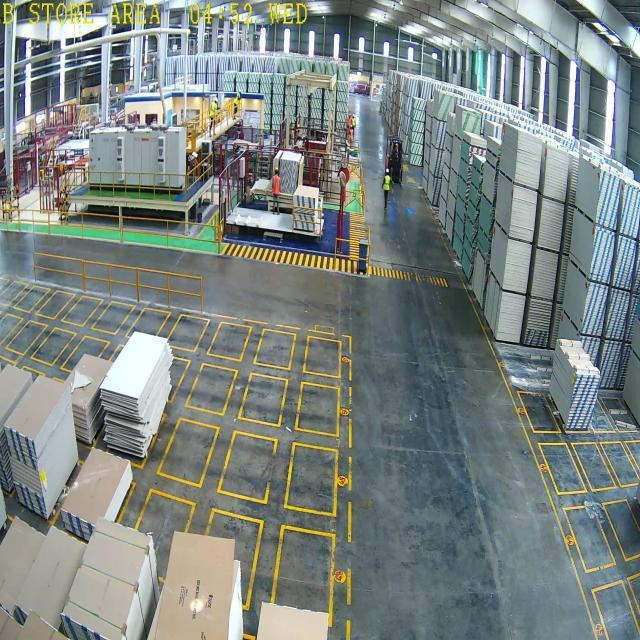material_stack: (563, 344, 593, 426)
